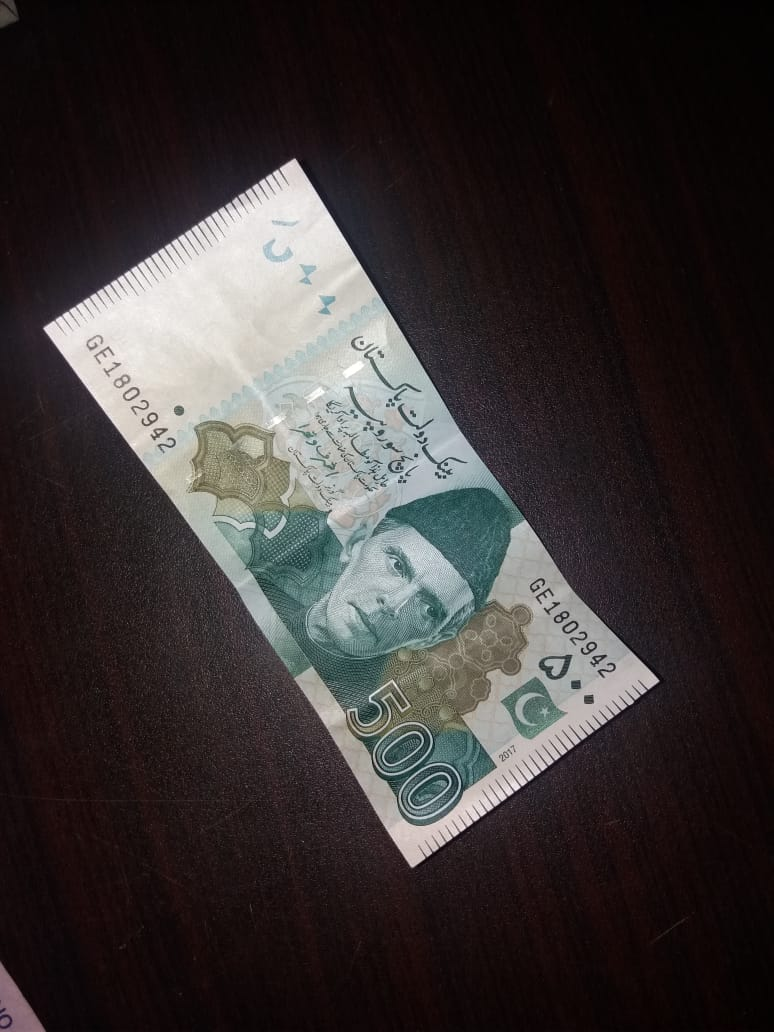500 rupee: (27, 152, 664, 894)
